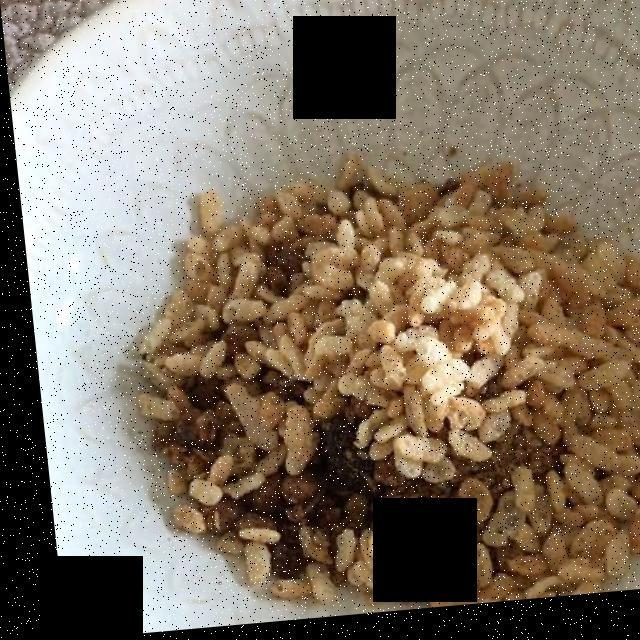muesli: (137, 178, 640, 602)
